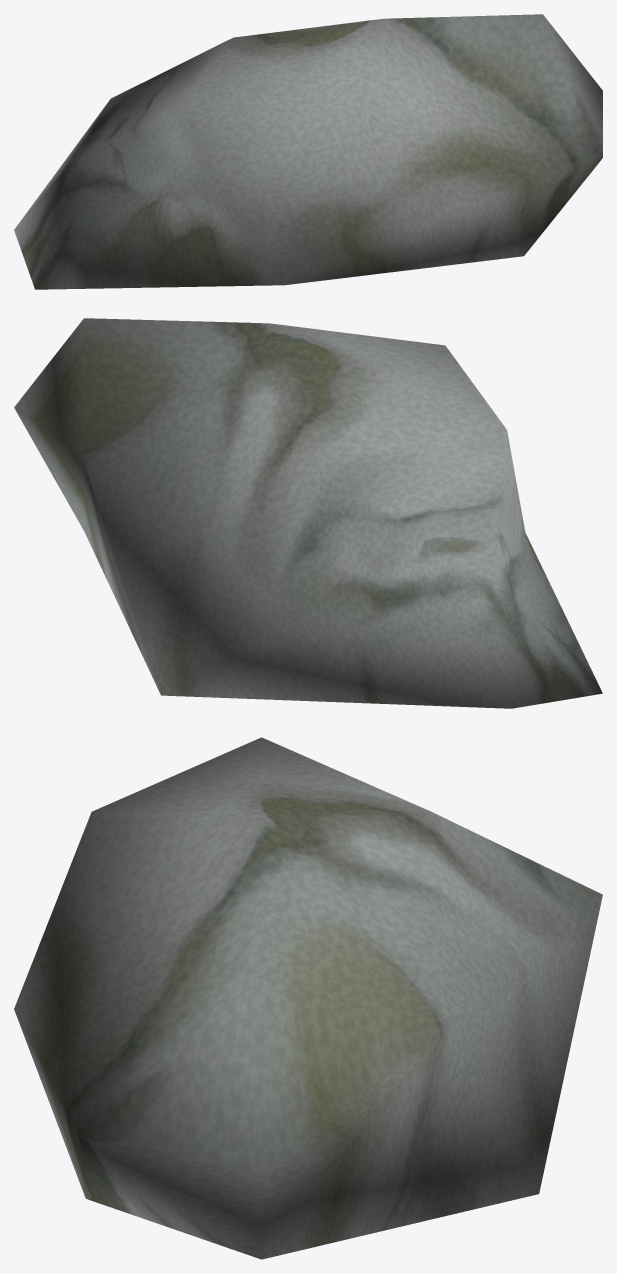
Rendered from Rock_small06.fbx.
3 renders of one model, top to bottom at view 1: azimuth 30°, elevation 25°; view 2: azimuth 150°, elevation 25°; view 3: azimuth 270°, elevation 25°, orthographic. The views are drawn at different scales.
Visible parts, largest first — view 1: Rock_small06; view 2: Rock_small06; view 3: Rock_small06.
Part boxes in pixels (box(x1,y1,x2,y2)): Rock_small06: box(14, 14, 602, 289); Rock_small06: box(14, 318, 602, 708); Rock_small06: box(14, 737, 602, 1259).
Bounding box in the file's own units: 0.7272 × 0.3254 × 0.4661.
1 material, 1 textured.
